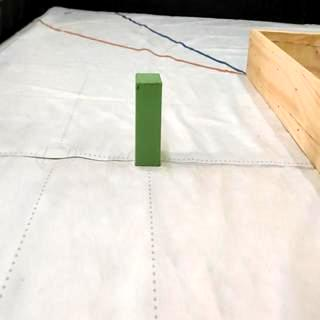greenbox: (132, 71, 164, 166)
